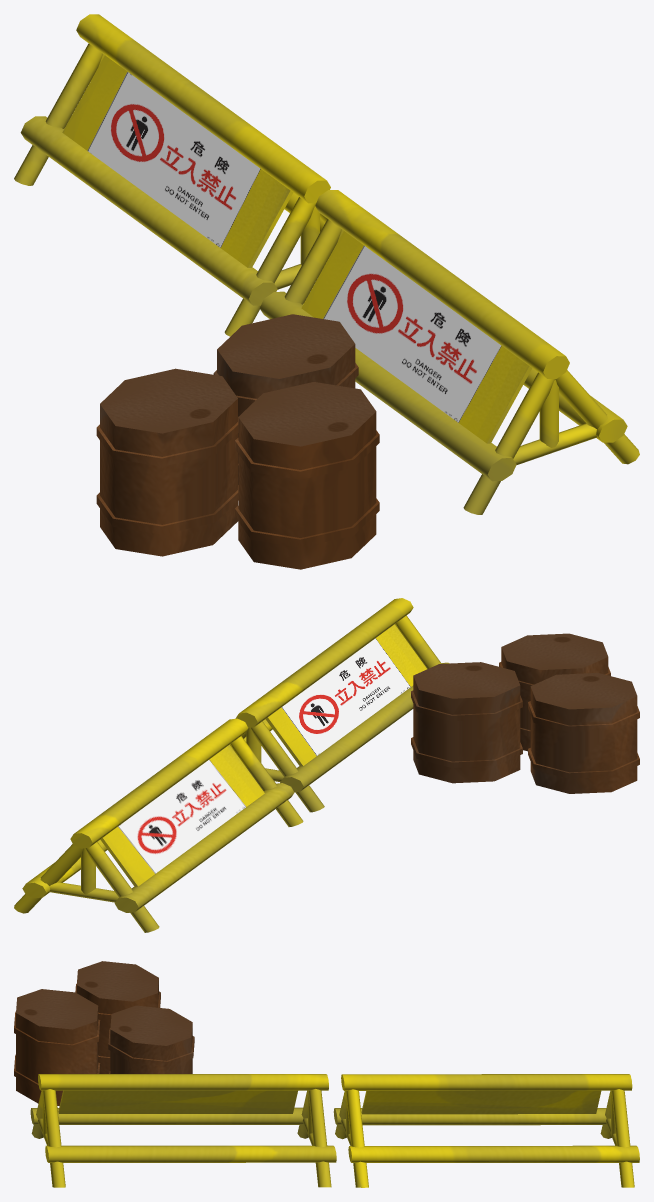
File: barricade.FBX
3 views of the same model, one above another, from view 1: azimuth 30°, elevation 25°; view 2: azimuth 150°, elevation 25°; view 3: azimuth 270°, elevation 25° (orthographic). The views are drawn at different scales.
Parts seen in each view (by area): view 1: Box010; view 2: Box010; view 3: Box010.
Part boxes in pixels (<box>): Box010: <box>14,14,639,569</box>; Box010: <box>14,598,639,932</box>; Box010: <box>14,961,639,1187</box>.
Size of the model in its own units: 328 by 87.39 by 569.
